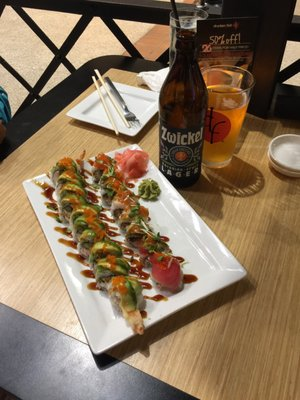pizza: (200, 65, 256, 169)
